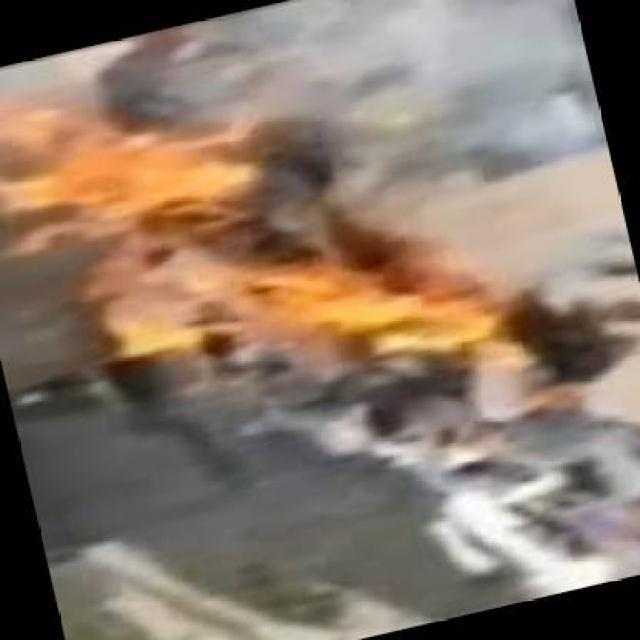Fire: (91, 238, 526, 375), (10, 114, 290, 238)
Smoke: (301, 20, 555, 192)
